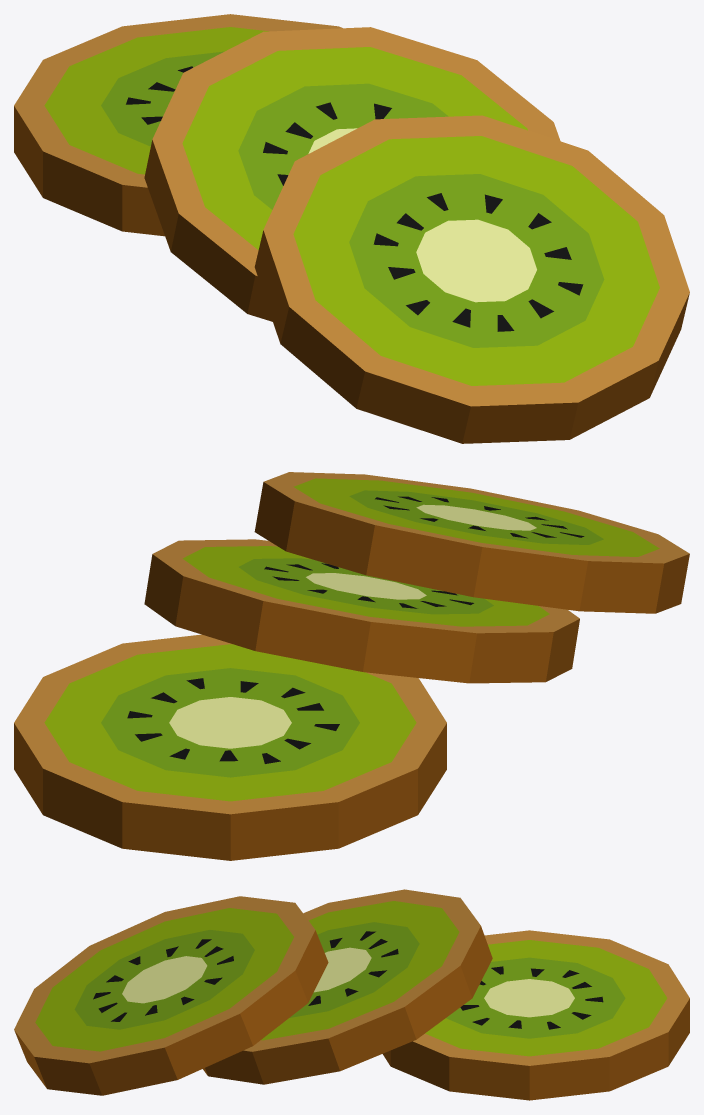
Rendered from Kiwi Slice.fbx.
3 renders of one model, top to bottom at view 1: azimuth 30°, elevation 25°; view 2: azimuth 150°, elevation 25°; view 3: azimuth 270°, elevation 25°, orthographic. The views are drawn at different scales.
Visible parts, largest first — view 1: Kiwi Slice.002, Kiwi Slice.001, Kiwi Slice; view 2: Kiwi Slice, Kiwi Slice.002, Kiwi Slice.001; view 3: Kiwi Slice.002, Kiwi Slice, Kiwi Slice.001.
Part boxes in pixels (bbox=[...]): Kiwi Slice.002: bbox=[254, 115, 689, 443]; Kiwi Slice.001: bbox=[144, 27, 560, 321]; Kiwi Slice: bbox=[14, 14, 342, 236]; Kiwi Slice: bbox=[14, 634, 446, 860]; Kiwi Slice.002: bbox=[254, 472, 689, 613]; Kiwi Slice.001: bbox=[144, 539, 579, 683]; Kiwi Slice.002: bbox=[14, 896, 328, 1095]; Kiwi Slice: bbox=[383, 930, 689, 1100]; Kiwi Slice.001: bbox=[203, 889, 492, 1084].
Size of the model in its own units: 11.15 by 5.23 by 23.5.
